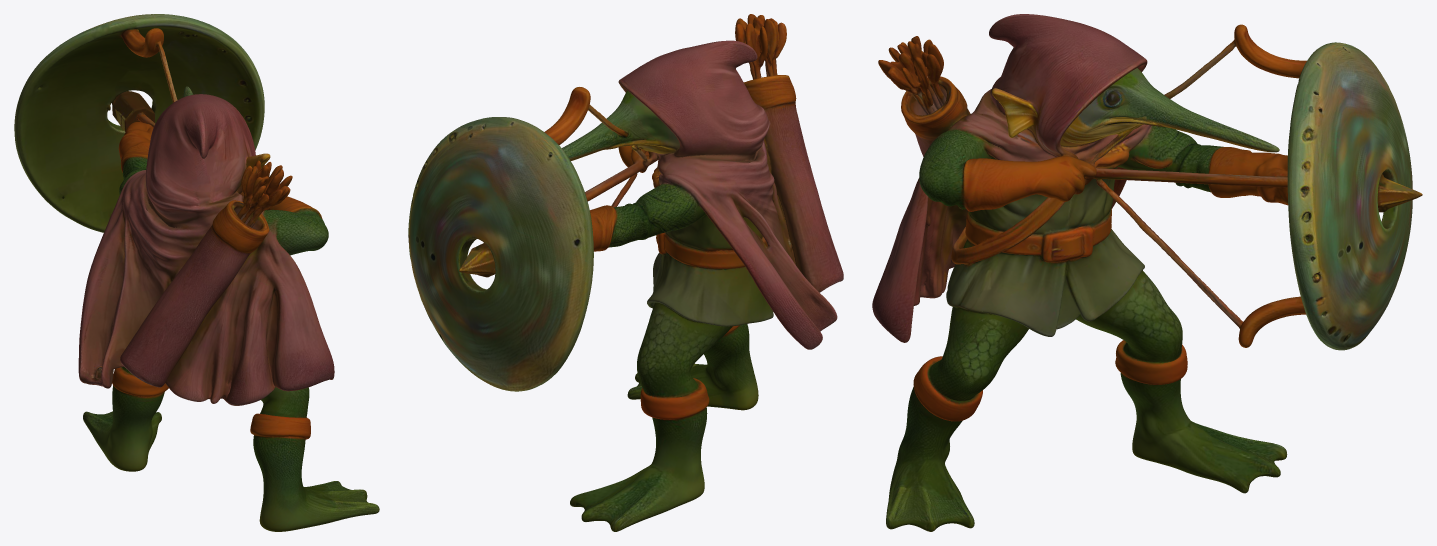
3 renders of one model, left to right at view 1: azimuth 30°, elevation 25°; view 2: azimuth 150°, elevation 25°; view 3: azimuth 270°, elevation 25°, orthographic. The views are drawn at different scales.
Visible parts, largest first — view 1: tripo_node_db1089d9-002f-4dd6-a18c-311fc255c849; view 2: tripo_node_db1089d9-002f-4dd6-a18c-311fc255c849; view 3: tripo_node_db1089d9-002f-4dd6-a18c-311fc255c849.
Boxes of the visible parts, left/top/right/bottom form: tripo_node_db1089d9-002f-4dd6-a18c-311fc255c849: left=14, top=14, right=379, bottom=531; tripo_node_db1089d9-002f-4dd6-a18c-311fc255c849: left=408, top=14, right=843, bottom=531; tripo_node_db1089d9-002f-4dd6-a18c-311fc255c849: left=872, top=14, right=1422, bottom=531.
Size of the model in its own units: 0.7051 by 0.9321 by 1.
Materials: 1 (1 with a texture image).
